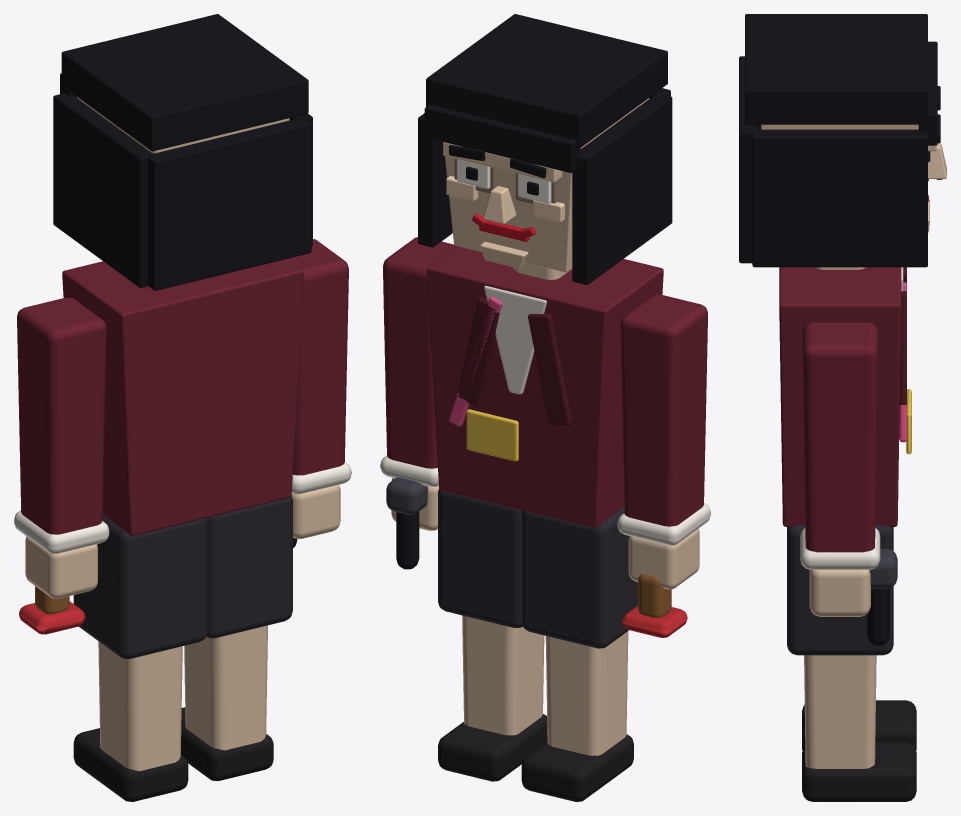
The picture shows the model from 3 angles, left to right: view 1: azimuth 30°, elevation 25°; view 2: azimuth 150°, elevation 25°; view 3: azimuth 270°, elevation 25°; orthographic projection. The views are drawn at different scales.
Visible parts, largest first — view 1: Head, Torso, LegL, ArmL, LegR, ArmR; view 2: Head, Torso, LegL, ArmL, LegR, ArmR; view 3: Head, ArmR, LegR, Torso, LegL.
Boxes of the visible parts, x1,y1,x2,y2 form: Head: (53, 14, 312, 290); Torso: (62, 258, 304, 535); LegL: (73, 515, 207, 801); ArmL: (14, 297, 109, 634); LegR: (181, 496, 292, 780); ArmR: (288, 239, 351, 547); Head: (418, 14, 672, 284); Torso: (426, 246, 663, 527); LegL: (521, 507, 637, 801); ArmL: (617, 294, 710, 637); LegR: (438, 488, 547, 781); ArmR: (380, 237, 456, 569); Head: (739, 14, 946, 267); ArmR: (800, 322, 897, 645); LegR: (787, 525, 916, 801); Torso: (779, 267, 911, 526); LegL: (802, 700, 916, 750).
Size of the model in its own units: 0.93 by 2.07 by 0.5441.
